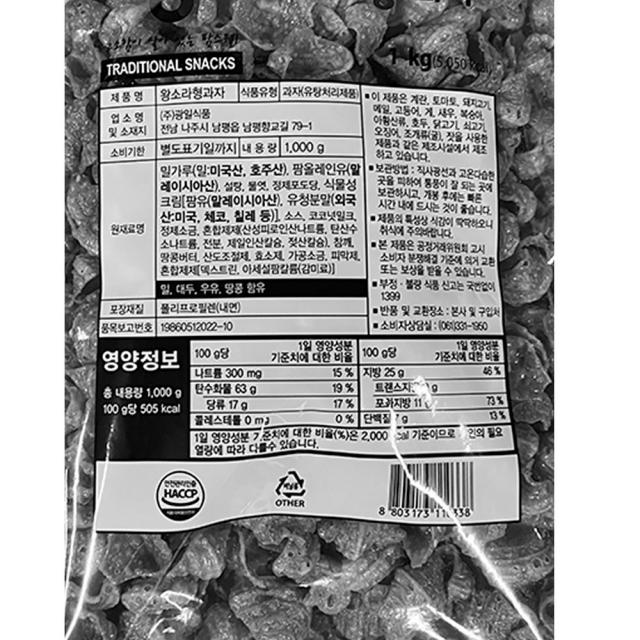Nutrition Label: (83, 323, 526, 473)
